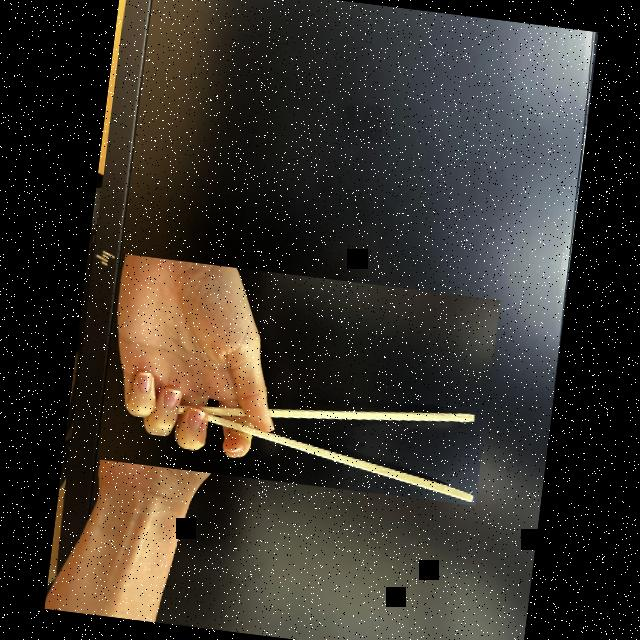stick: (96, 254, 499, 505)
